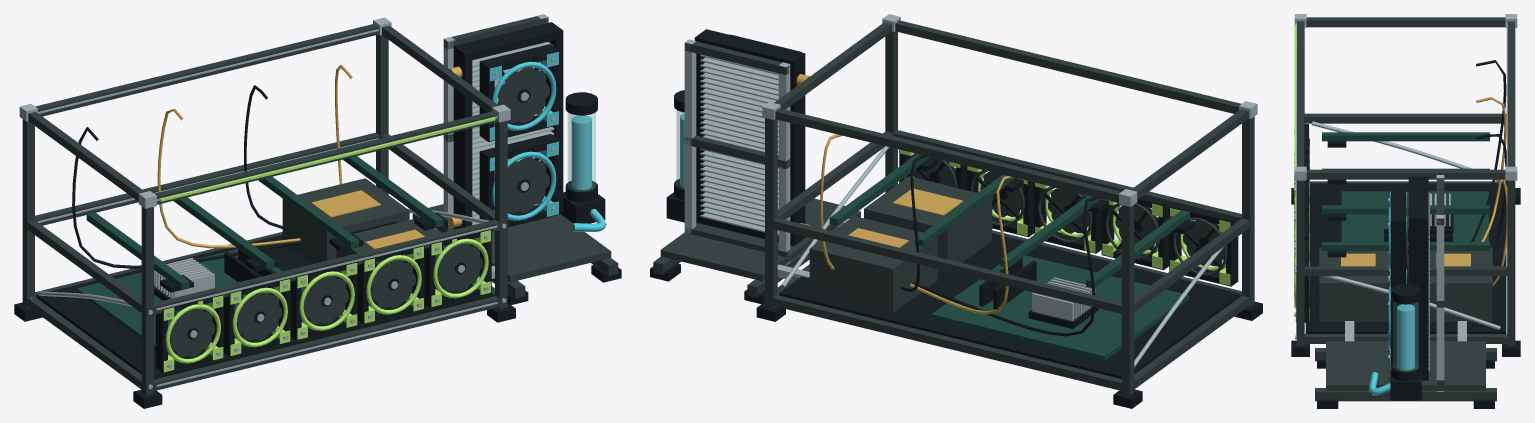
The model's file is rig-gameplay-none-liquid.glb.
The picture shows the model from 3 angles, left to right: view 1: azimuth 30°, elevation 25°; view 2: azimuth 150°, elevation 25°; view 3: azimuth 270°, elevation 25°; orthographic projection. The views are drawn at different scales.
Visible parts, largest first — view 1: Anodized graphite (×9), Rubber and ABS (×10), Brushed aluminium (×2), Circuit board, Lime accents (×5), Coolant blue (×3), cooling-liquid, Contacts, rig-gameplay-none-liquid, slot-cable-1, slot-cable-2, slot-cable-3; view 2: Anodized graphite (×6), Rubber and ABS (×7), Brushed aluminium (×2), Circuit board, Contacts, Lime accents (×2), slot-cable-1, slot-cable-2, cooling-liquid; view 3: Anodized graphite (×2), Rubber and ABS (×6), Circuit board, Brushed aluminium (×2), cooling-liquid, Coolant blue (×2), Contacts, slot-cable-1, slot-cable-2, slot-cable-3, rig-gameplay-none-liquid, slot-cable-4.
Part boxes in pixels (bbox=[...]): Anodized graphite (×9): bbox=[22, 16, 618, 395]; Rubber and ABS (×10): bbox=[14, 22, 621, 408]; Brushed aluminium (×2): bbox=[19, 14, 554, 389]; Circuit board: bbox=[77, 156, 443, 350]; Lime accents (×5): bbox=[163, 230, 490, 372]; Coolant blue (×3): bbox=[489, 51, 606, 231]; cooling-liquid: bbox=[568, 112, 595, 191]; Contacts: bbox=[311, 190, 424, 248]; rig-gameplay-none-liquid: bbox=[160, 117, 495, 201]; slot-cable-1: bbox=[72, 127, 303, 268]; slot-cable-2: bbox=[157, 108, 300, 248]; slot-cable-3: bbox=[244, 85, 291, 230]; Anodized graphite (×6): bbox=[653, 20, 1254, 395]; Rubber and ABS (×7): bbox=[650, 29, 1262, 408]; Brushed aluminium (×2): bbox=[684, 14, 1257, 367]; Circuit board: bbox=[829, 154, 1189, 360]; Contacts: bbox=[848, 188, 963, 247]; Lime accents (×2): bbox=[1102, 199, 1230, 285]; slot-cable-1: bbox=[912, 197, 1098, 336]; slot-cable-2: bbox=[910, 176, 1012, 314]; cooling-liquid: bbox=[676, 110, 684, 188]; Anodized graphite (×2): bbox=[1296, 17, 1515, 401]; Rubber and ABS (×6): bbox=[1291, 140, 1520, 408]; Circuit board: bbox=[1322, 132, 1489, 266]; Brushed aluminium (×2): bbox=[1294, 14, 1517, 391]; cooling-liquid: bbox=[1393, 302, 1418, 371]; Coolant blue (×2): bbox=[1369, 192, 1414, 395]; Contacts: bbox=[1341, 253, 1470, 266]; slot-cable-1: bbox=[1471, 60, 1506, 241]; slot-cable-2: bbox=[1476, 97, 1506, 241]; slot-cable-3: bbox=[1476, 134, 1507, 253]; rig-gameplay-none-liquid: bbox=[1294, 24, 1296, 170]; slot-cable-4: bbox=[1492, 179, 1507, 286].
Size of the model in its own units: 8.43 by 3.32 by 3.66.
